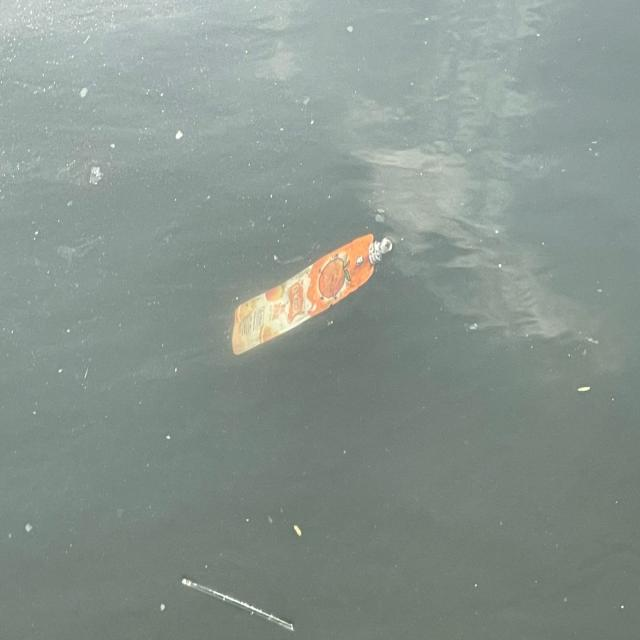Bungkus Minuman: (230, 231, 400, 358)
